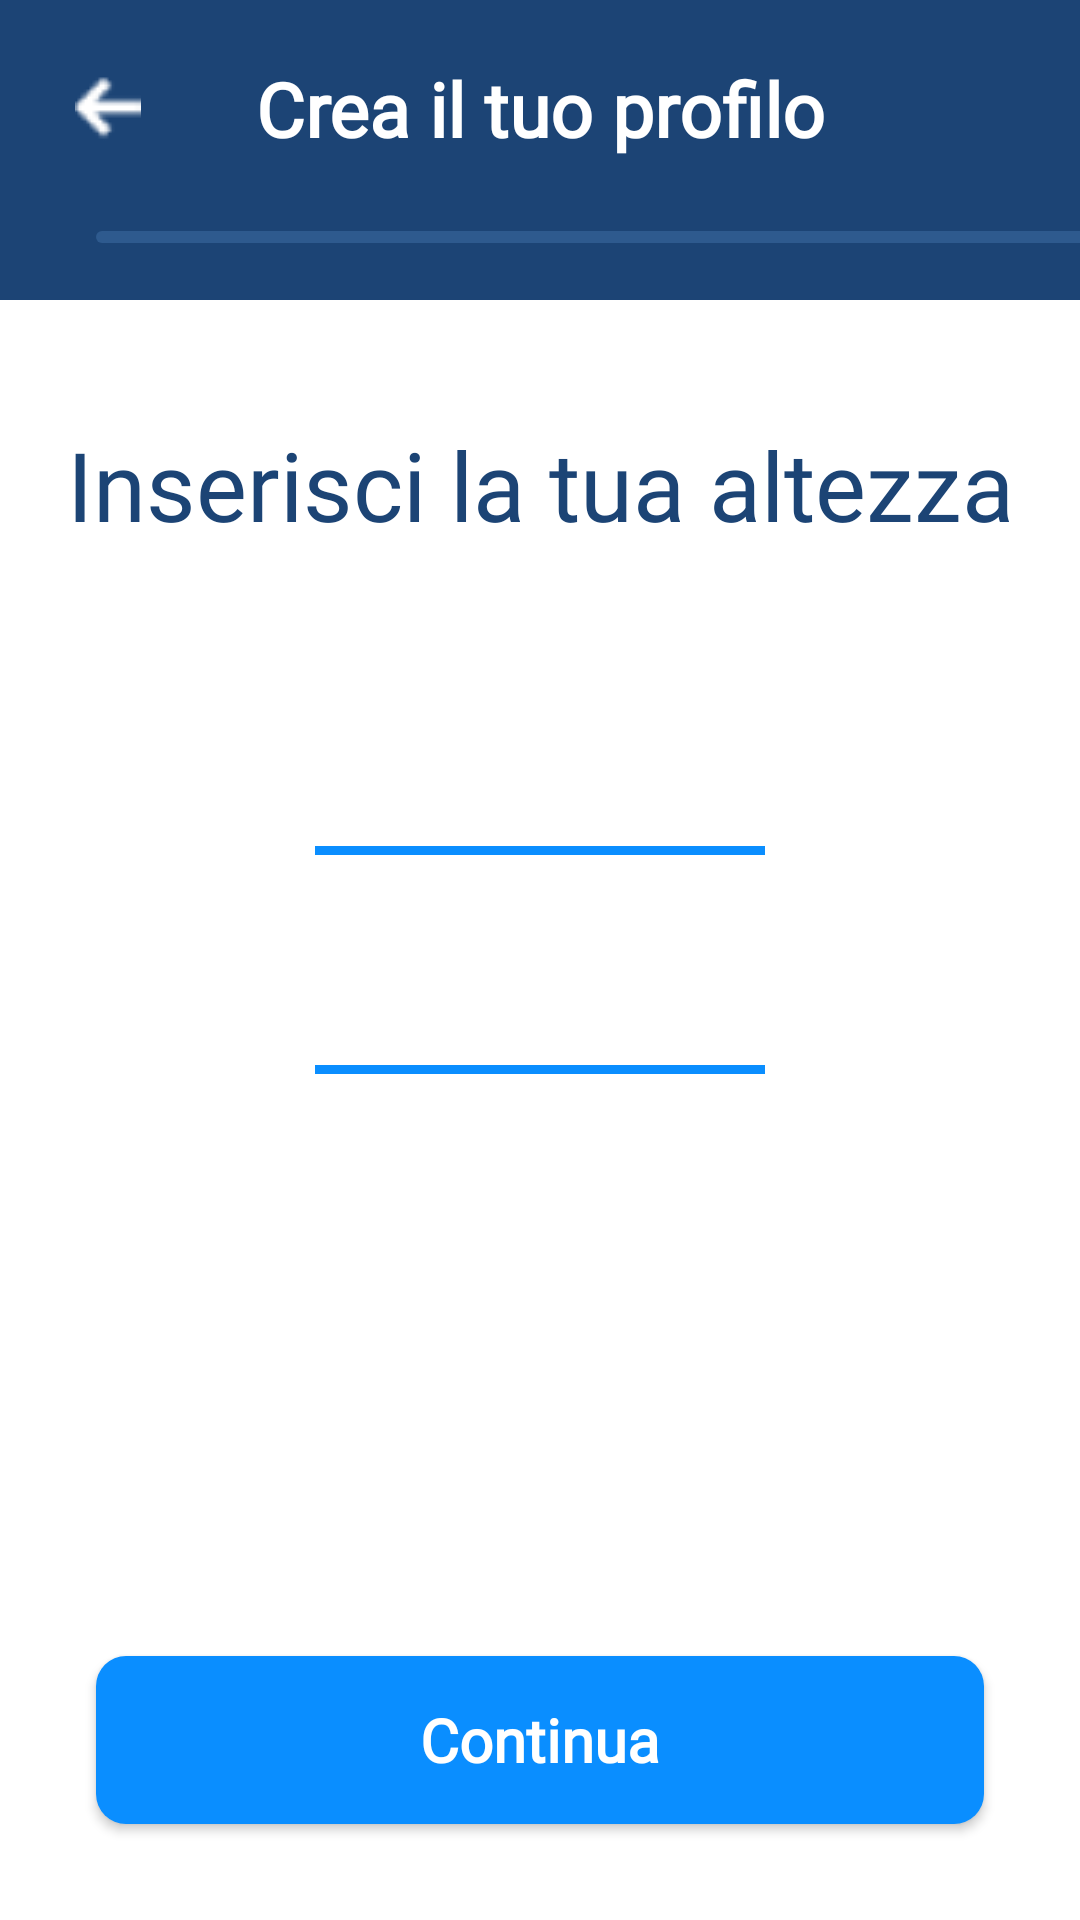

Where to tap for icons on this 1080×1920 app screen, as (x,y):
arrow back: (108,107)
